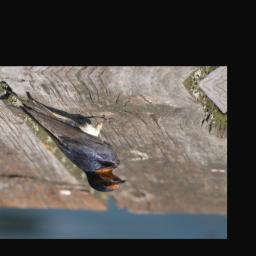Swallow: (0, 85, 136, 195)
